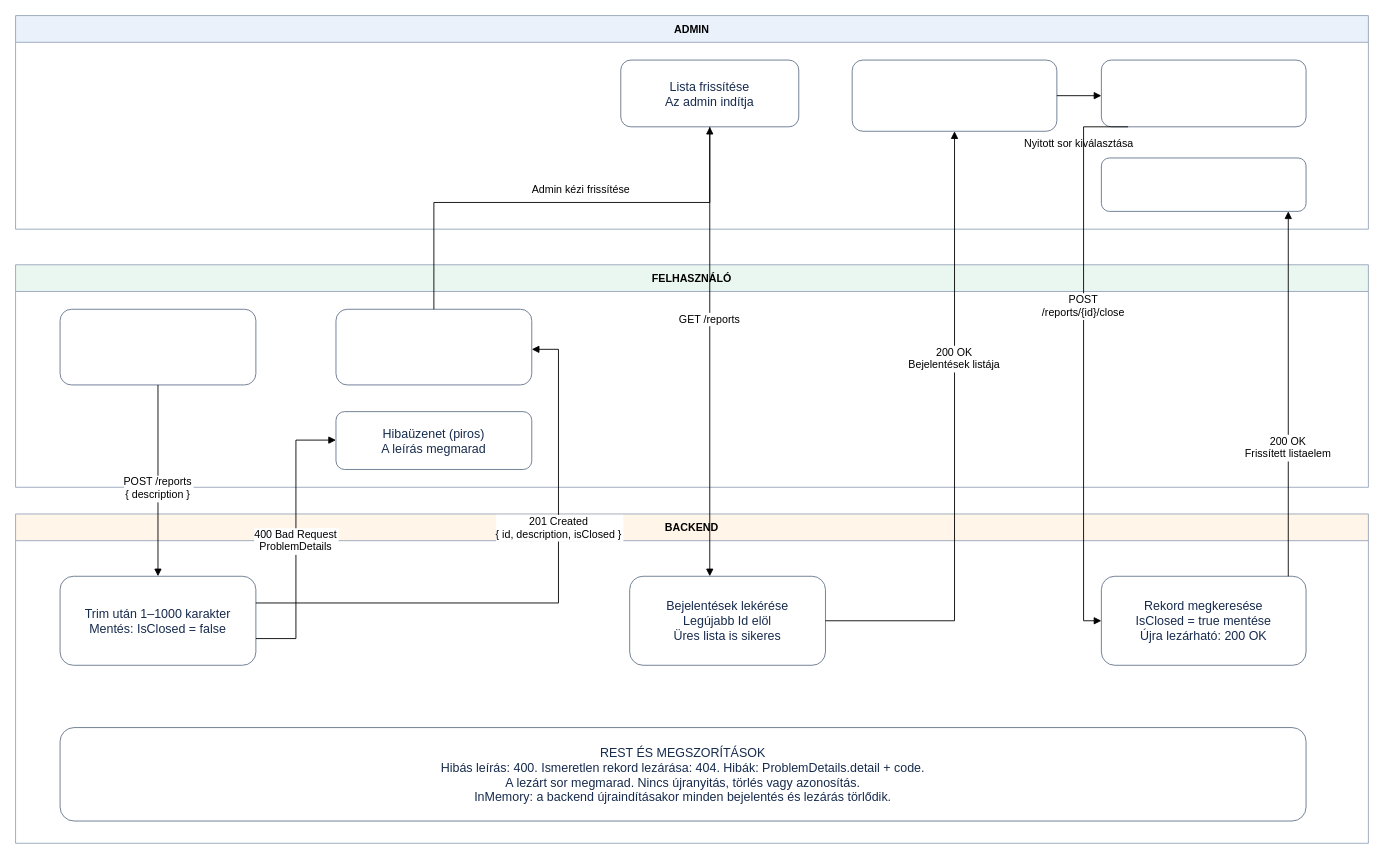
This 1384x859 diagram has some shape labels left out. The centre of each missing label's shape, as x and y in pixels:
Hibaleírás megadása Beküldés gomb: the point at 157,346
Id, leírás, állapot Lezárás csak nyitott sorban: the point at 954,95
Lezárva állapot A gomb eltűnik: the point at 1203,184
Lezárás gomb: the point at 1203,93
Sikerüzenet + Id A leírás kiürül: the point at 433,346
